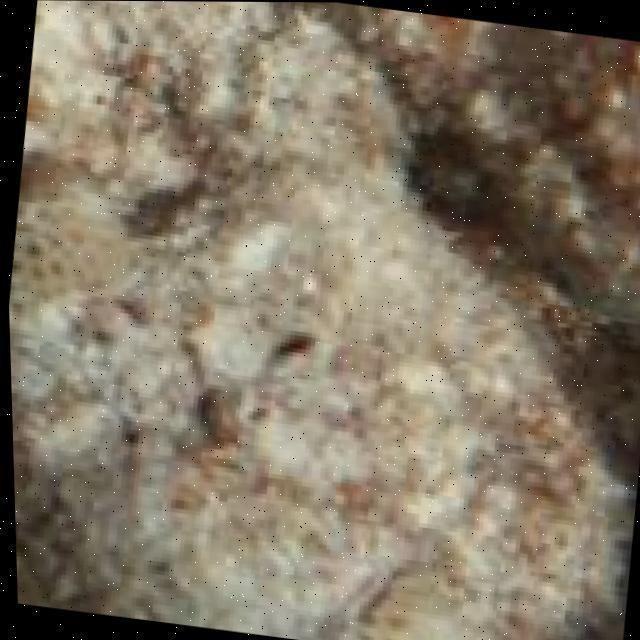Bleached Coral: (37, 11, 640, 624)
